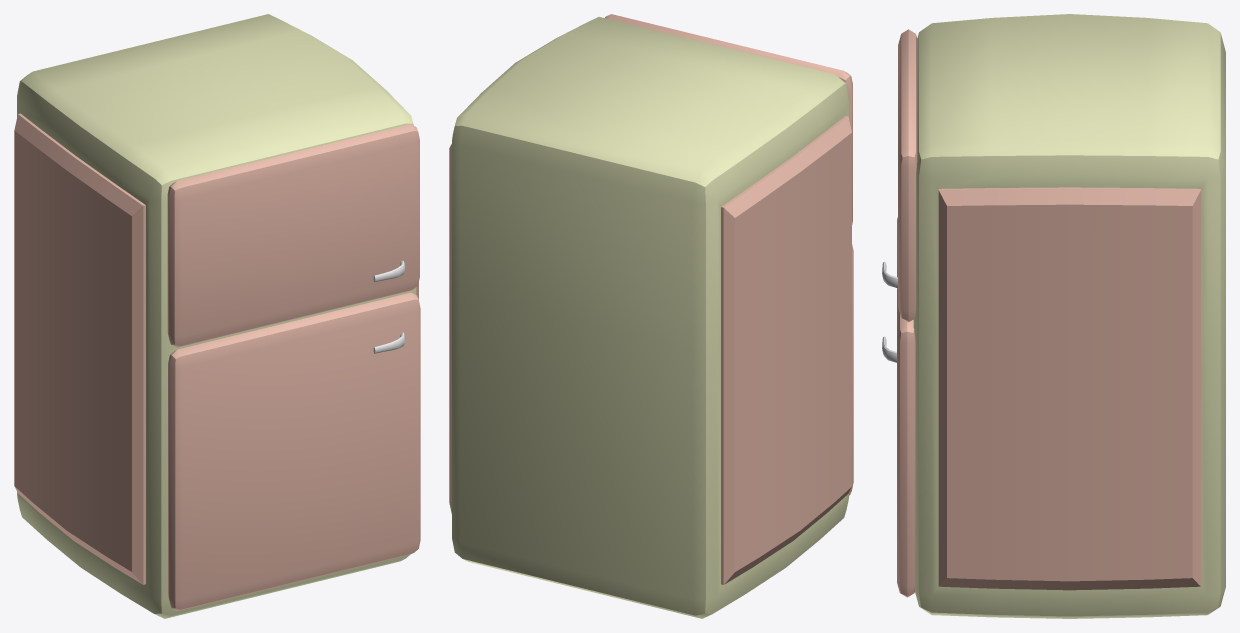
File: fridge.fbx
3 views of the same model, side by side, from view 1: azimuth 30°, elevation 25°; view 2: azimuth 150°, elevation 25°; view 3: azimuth 270°, elevation 25° (orthographic). The views are drawn at different scales.
Visible parts, largest first — view 1: Circle.001; view 2: Circle.001; view 3: Circle.001.
Boxes of the visible parts, x1=… form: Circle.001: x1=14, y1=14, x2=420, y2=618; Circle.001: x1=449, y1=14, x2=853, y2=618; Circle.001: x1=882, y1=14, x2=1225, y2=618.
Bounding box in the file's own units: 242 × 352 × 230.
